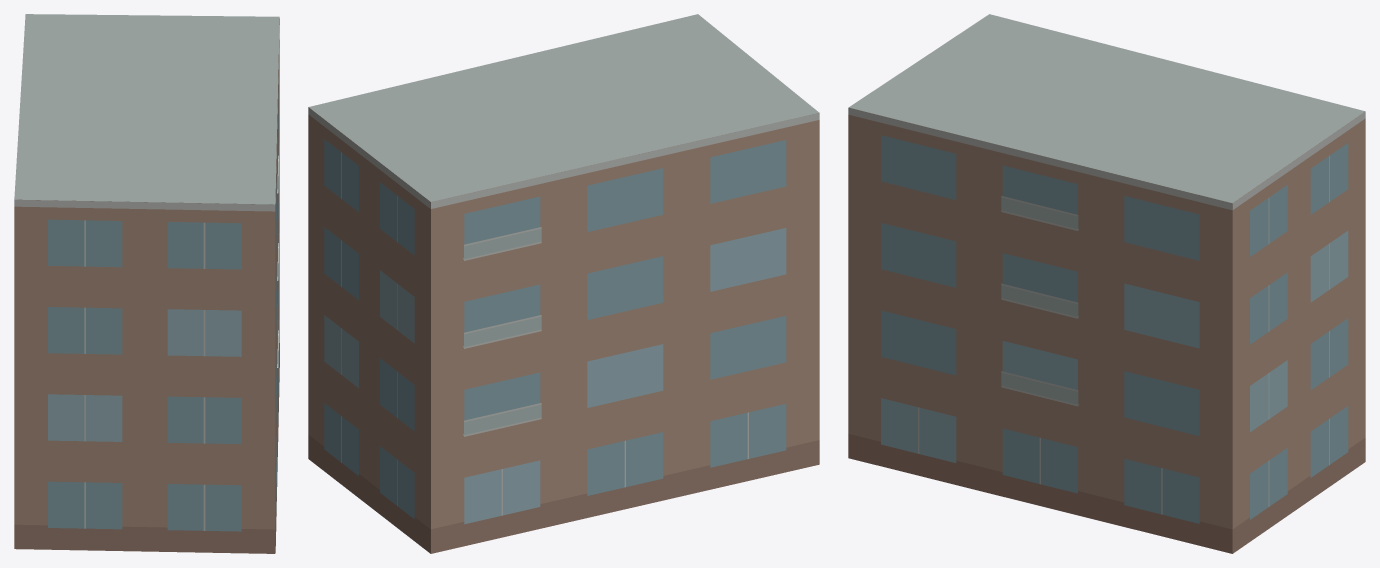
Rendered from survey-upis-32788652.glb.
The picture shows the model from 3 angles, left to right: view 1: azimuth 30°, elevation 25°; view 2: azimuth 150°, elevation 25°; view 3: azimuth 270°, elevation 25°; orthographic projection.
Visible parts, largest first — view 1: survey-upis-32788652.tmp; view 2: survey-upis-32788652.tmp; view 3: survey-upis-32788652.tmp.
Part boxes in pixels (left/top/right/bottom): survey-upis-32788652.tmp: left=14, top=14, right=279, bottom=553; survey-upis-32788652.tmp: left=308, top=14, right=819, bottom=553; survey-upis-32788652.tmp: left=848, top=14, right=1365, bottom=553.
Size of the model in its own units: 14.02 by 12.1 by 16.18.
